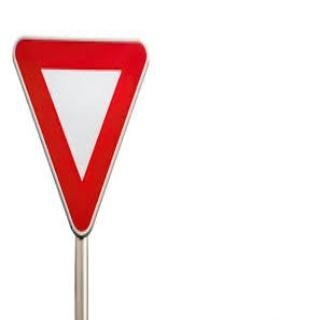sign_yield: (12, 34, 147, 249)
